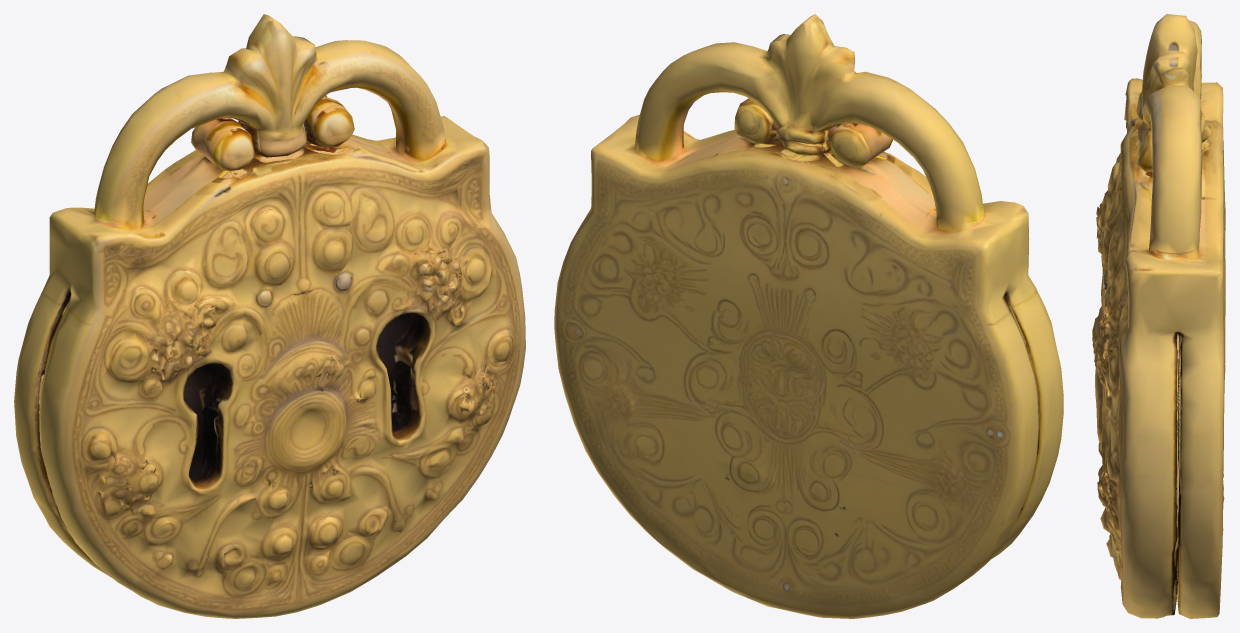
Rendered from Victorian_Lock_with_t_0422154838_texture.fbx.
3 views of the same model, side by side, from view 1: azimuth 30°, elevation 25°; view 2: azimuth 150°, elevation 25°; view 3: azimuth 270°, elevation 25° (orthographic).
Visible parts, largest first — view 1: Mesh1; view 2: Mesh1; view 3: Mesh1.
Boxes of the visible parts, box(x1,y1,x2,y2) form: Mesh1: box(14, 14, 525, 618); Mesh1: box(554, 14, 1063, 618); Mesh1: box(1092, 14, 1225, 618).
Size of the model in its own units: 169 by 199 by 41.71.
Materials: 1 (1 with a texture image).
